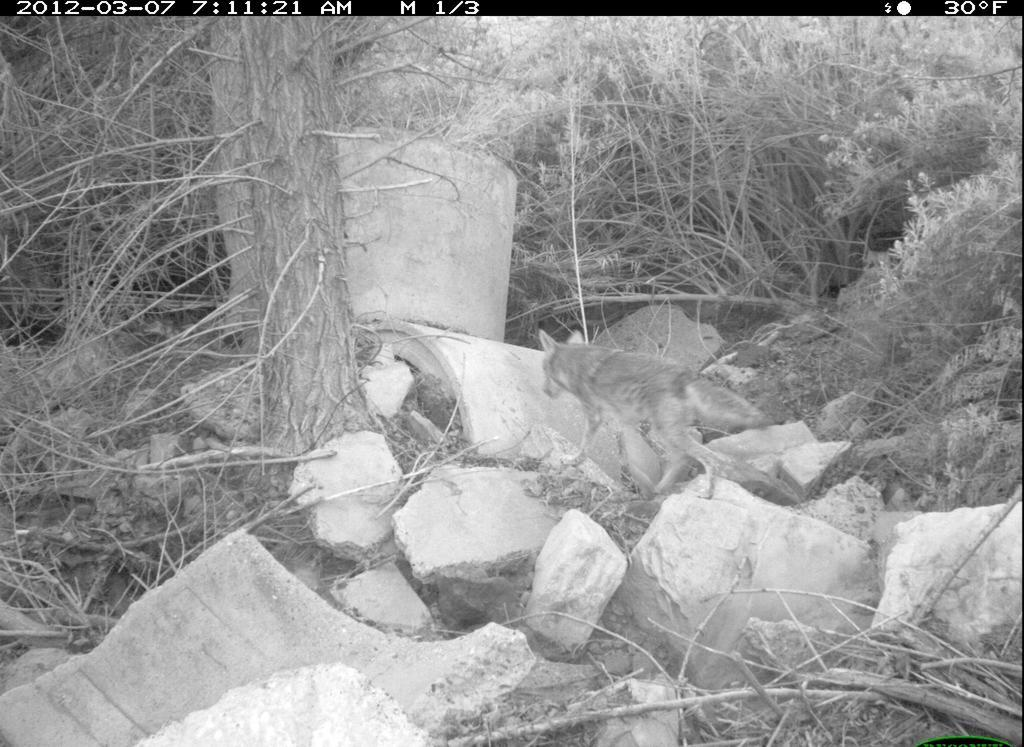coyote: (510, 317, 779, 513)
